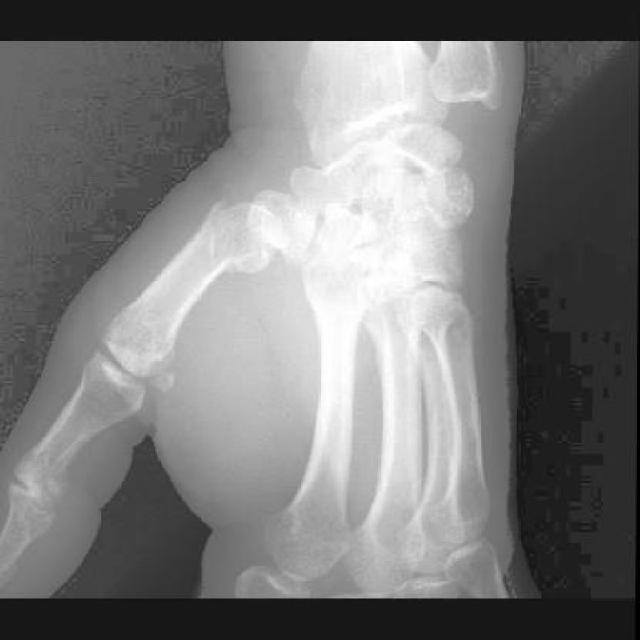Fracture: (203, 194, 284, 280)
